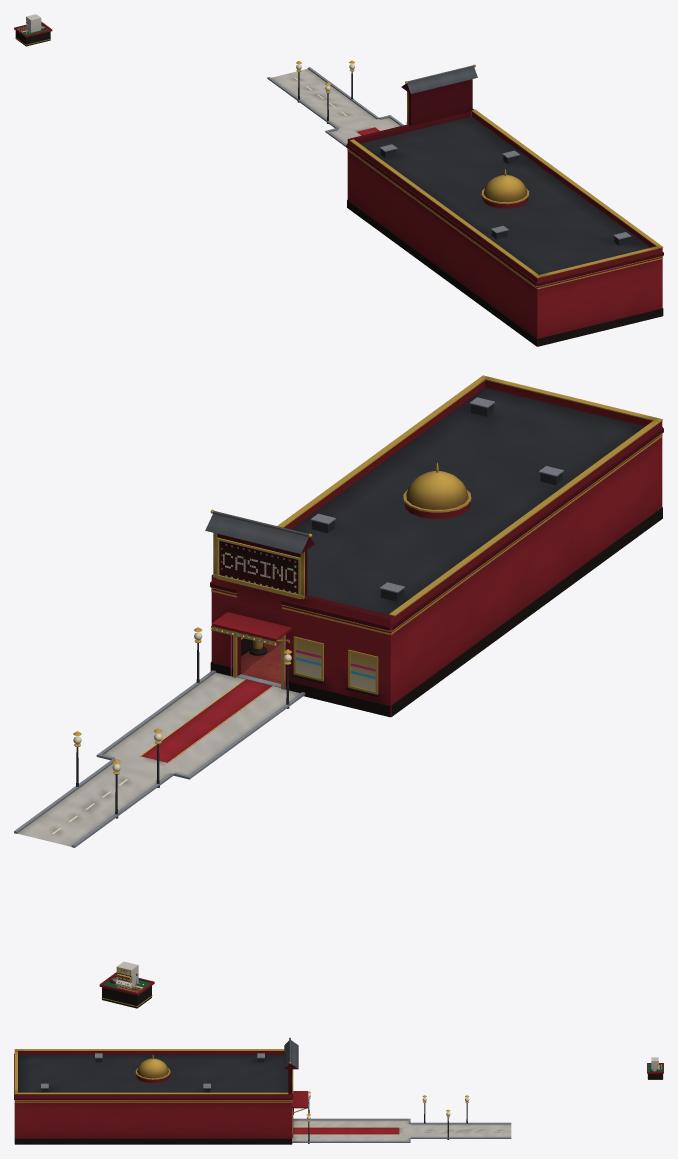
The model's file is casino.glb.
The picture shows the model from 3 angles, top to bottom: view 1: azimuth 30°, elevation 25°; view 2: azimuth 150°, elevation 25°; view 3: azimuth 270°, elevation 25°; orthographic projection. The views are drawn at different scales.
Visible parts, largest first — view 1: casinoRoof, casinoWalls, casinoFront, coastRoad, casinoYard, rouletteTable; view 2: casinoRoof, casinoWalls, casinoFront, casinoYard, coastRoad, casinoSign, casinoFloor, rouletteTable; view 3: casinoRoof, casinoWalls, casinoYard, coastRoad, casinoFront, rouletteTable.
Part boxes in pixels (x1,y1,x2,y2): casinoRoof: (349, 109, 663, 283); casinoWalls: (296, 60, 663, 346); casinoFront: (347, 64, 477, 145); coastRoad: (267, 67, 378, 128); casinoYard: (325, 115, 403, 146); rouletteTable: (14, 21, 52, 46); casinoRoof: (277, 375, 662, 623); casinoWalls: (73, 387, 663, 818); casinoFront: (205, 509, 394, 717); casinoYard: (96, 670, 305, 779); coastRoad: (14, 759, 173, 847); casinoSign: (210, 537, 375, 691); casinoFloor: (241, 638, 280, 683); rouletteTable: (99, 972, 154, 1008); casinoRoof: (14, 1049, 288, 1098); casinoWalls: (14, 1053, 469, 1144); casinoYard: (292, 1118, 410, 1142); coastRoad: (410, 1122, 511, 1138); casinoFront: (284, 1037, 308, 1143); rouletteTable: (647, 1063, 663, 1079).
Size of the model in its own units: 18.37 by 9.66 by 69.01.
Materials: 3 (1 with a texture image).
